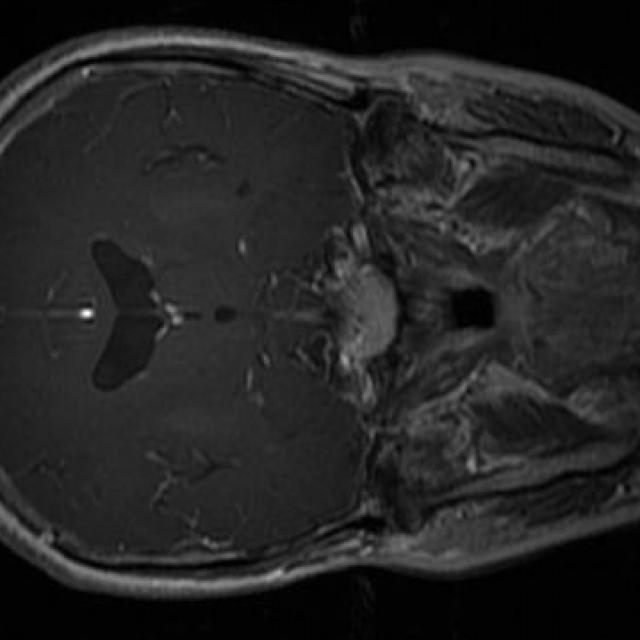glioma: (146, 128, 226, 175)
